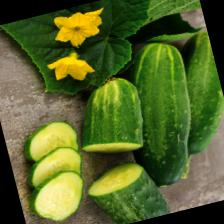cucumber: (106, 36, 211, 192), (66, 72, 150, 162), (81, 153, 171, 224)
